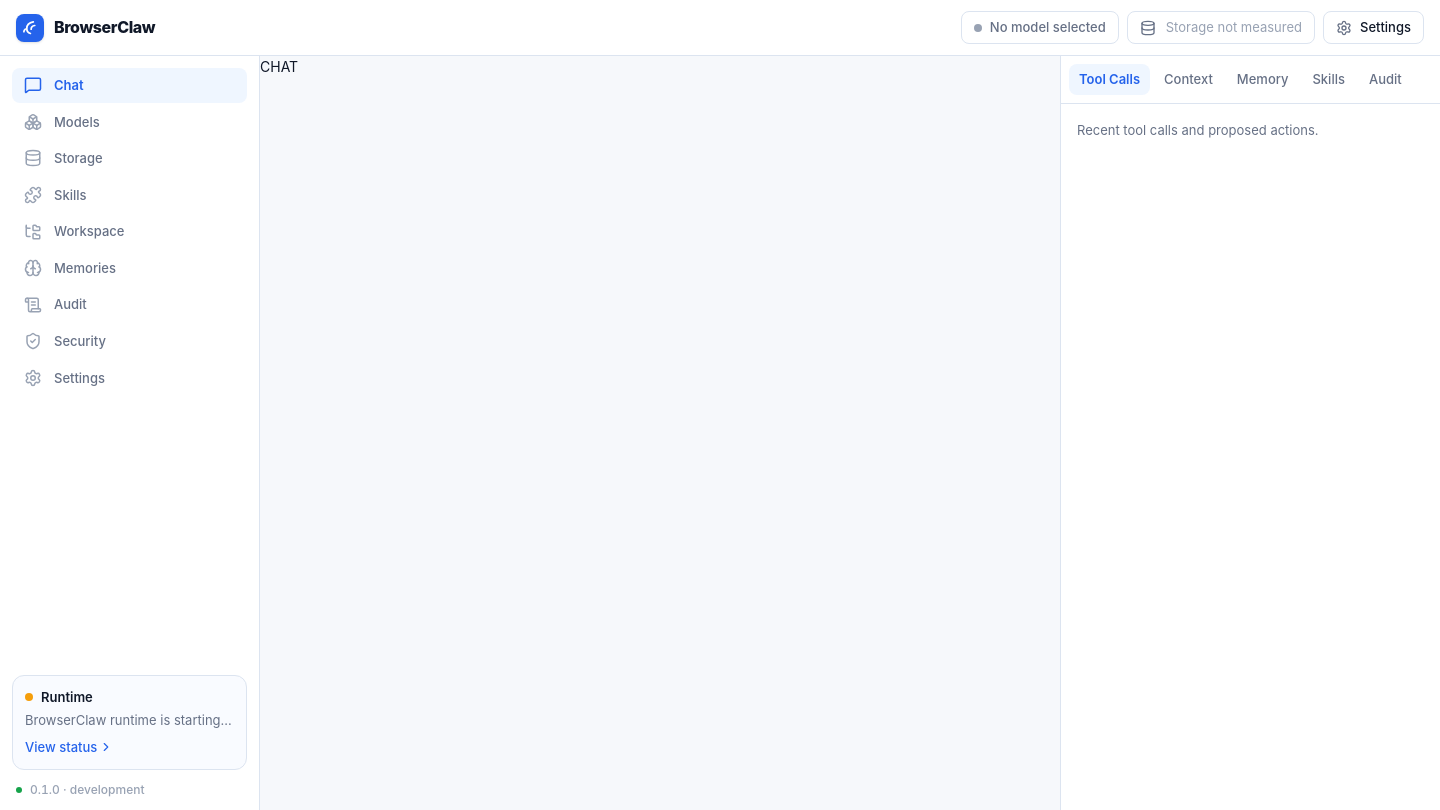
Test case: AppLayout › navigates to /settings when the top-bar Settings button is clicked
Check: the text "CHAT" is shown, box top-left (260, 58), bottom-right (298, 75)
Click the button "Settings".
click(1374, 28)  # box top-left (1323, 11), bottom-right (1424, 44)
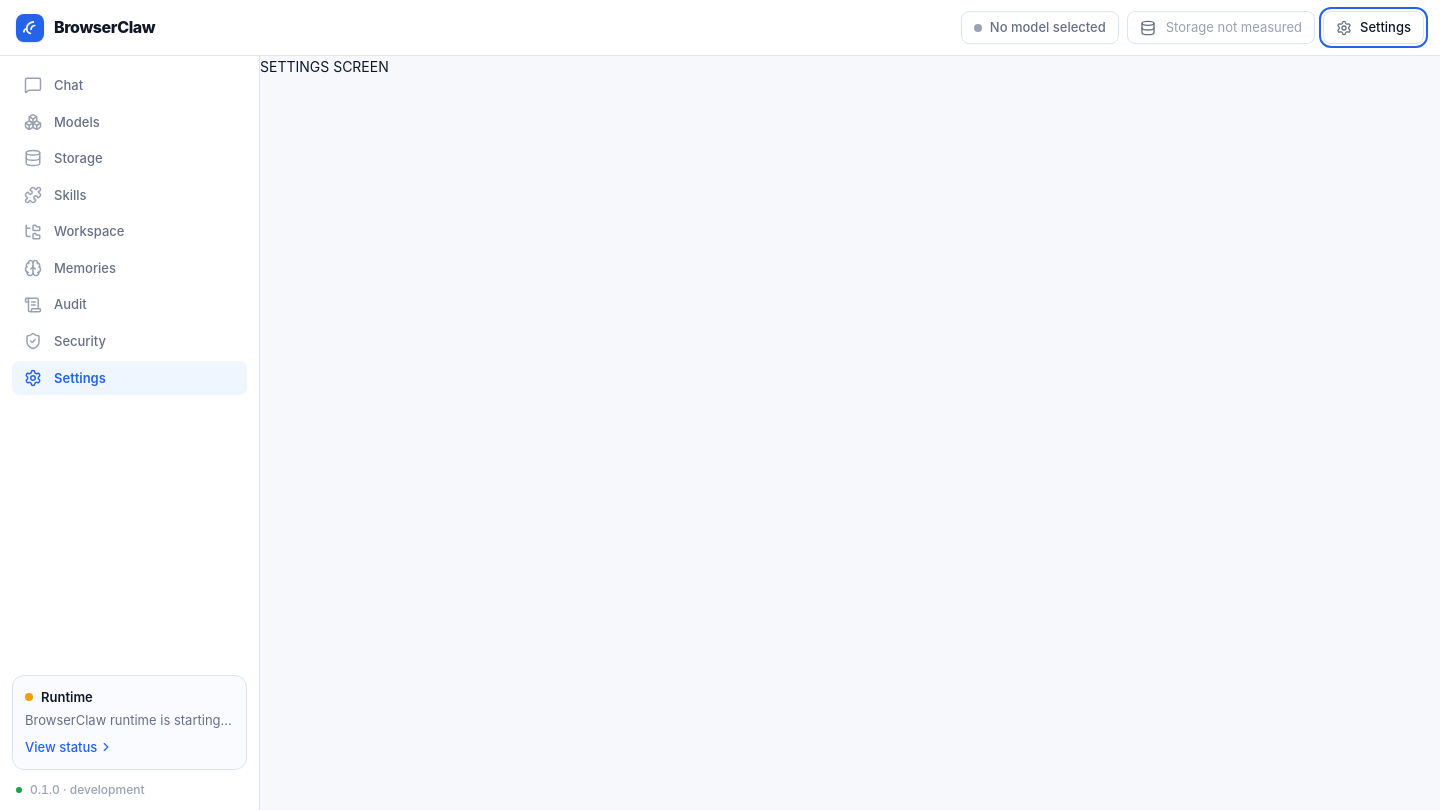
Check: the text "SETTINGS SCREEN" is shown, box top-left (260, 58), bottom-right (389, 75)
